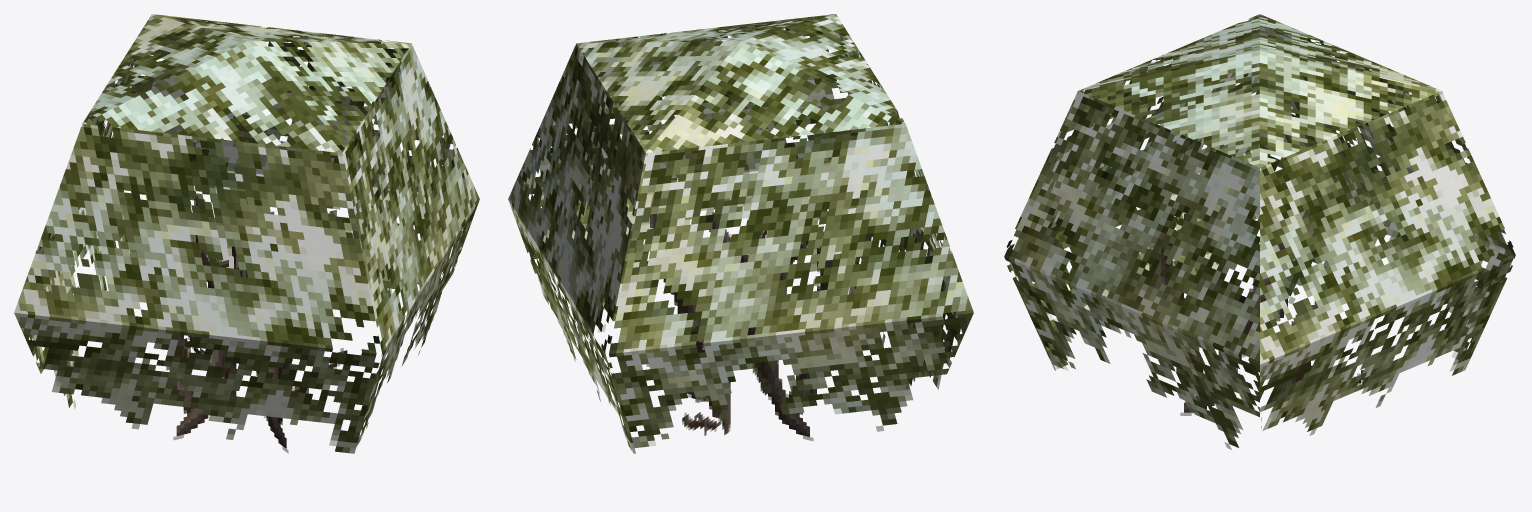
Rendered from bush_end_roots_winter.glb.
The picture shows the model from 3 angles, left to right: view 1: azimuth 30°, elevation 25°; view 2: azimuth 150°, elevation 25°; view 3: azimuth 270°, elevation 25°; orthographic projection. The views are drawn at different scales.
Visible parts, largest first — view 1: bush_end_roots_winter; view 2: bush_end_roots_winter; view 3: bush_end_roots_winter.
Boxes of the visible parts, <box> form: bush_end_roots_winter: <box>14,14,479,453</box>; bush_end_roots_winter: <box>508,14,973,453</box>; bush_end_roots_winter: <box>1004,14,1515,449</box>.
Size of the model in its own units: 1.39 by 1.1 by 1.39.
Materials: 2 (2 with a texture image).
